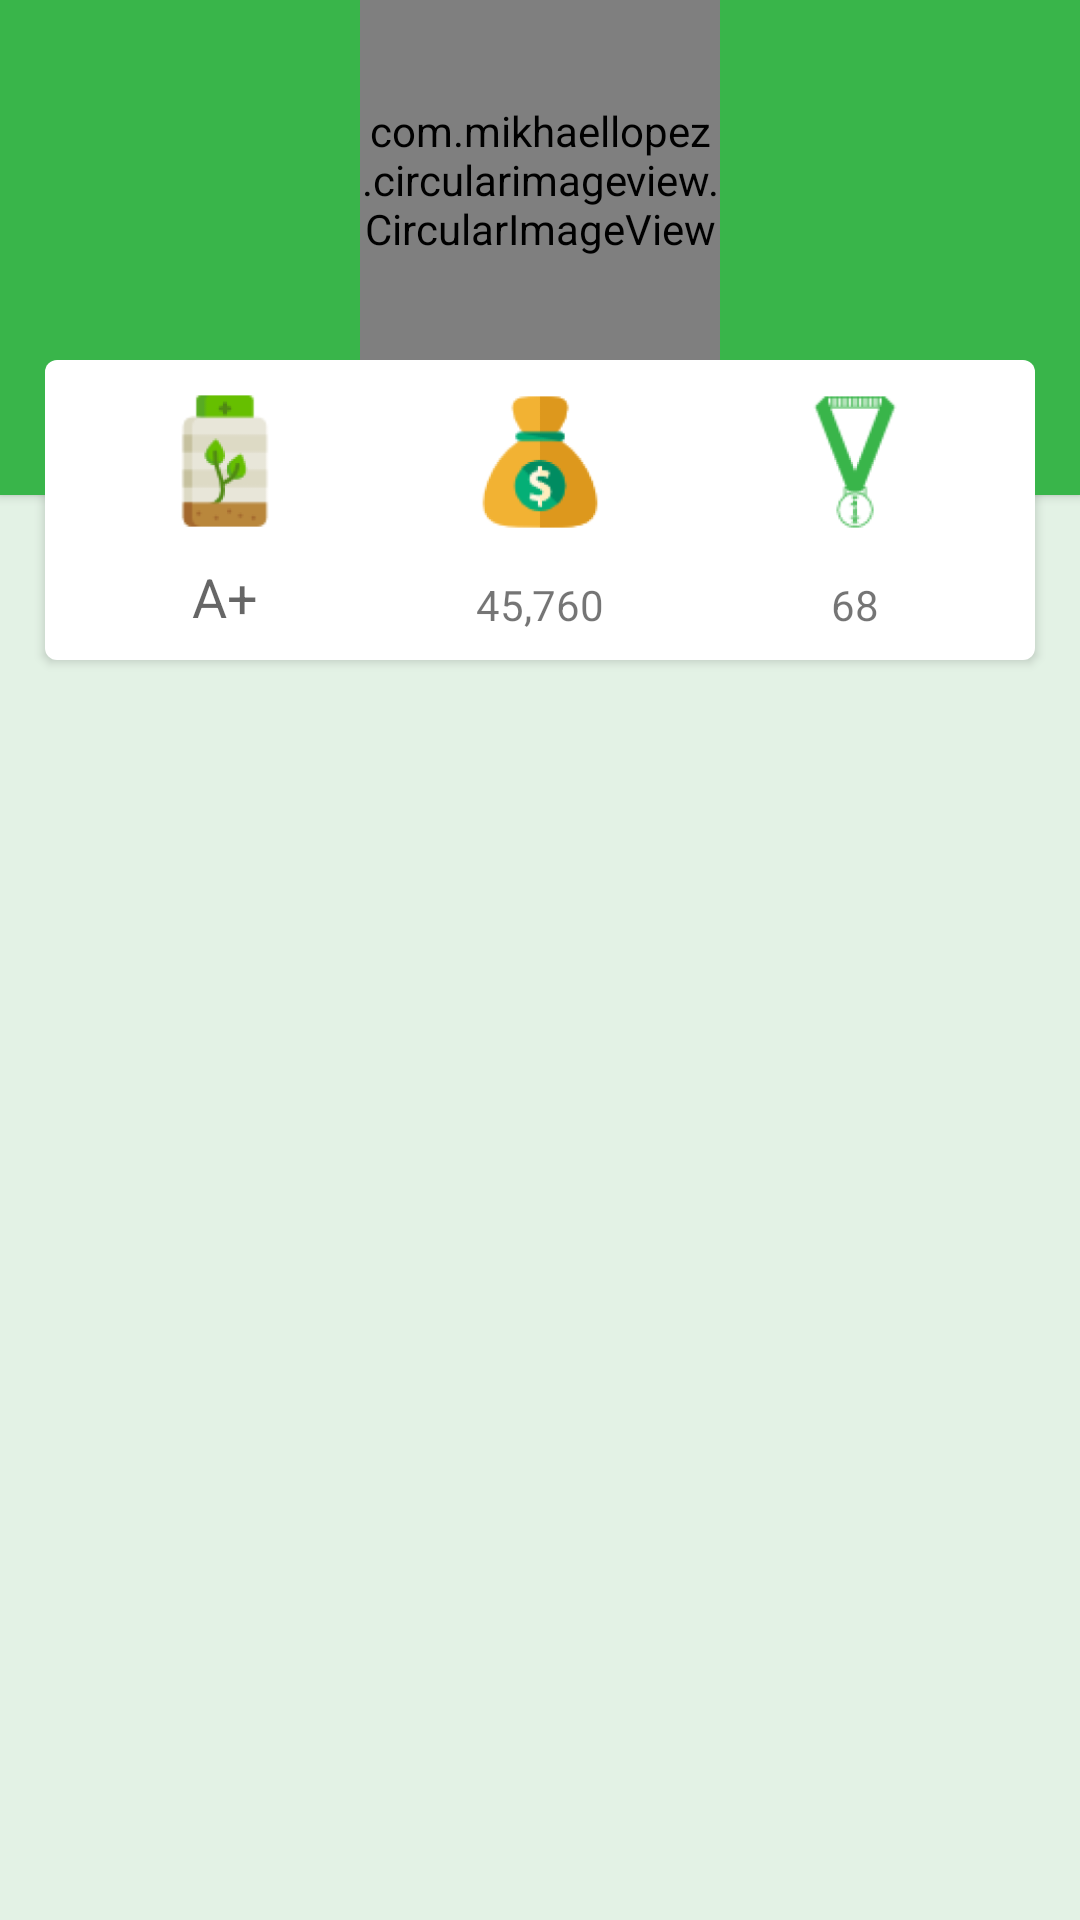

Screen size 1080w x 1920h. Icon name, then its center in pixels as point (x, y):
money bag: point (540, 462)
